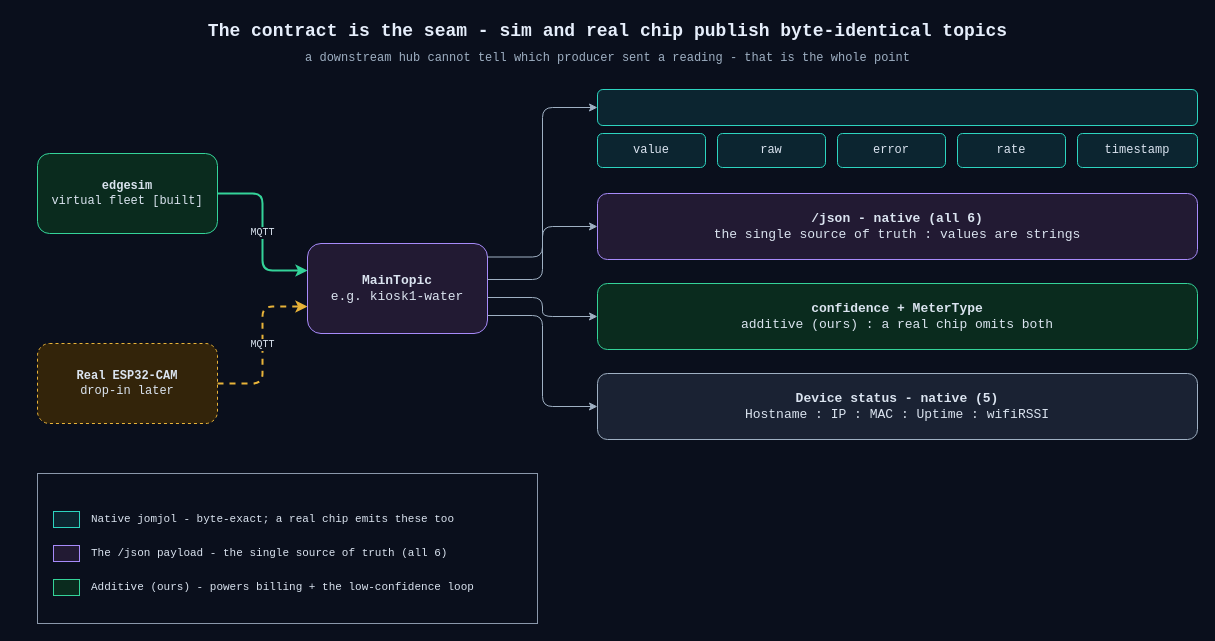
Some shapes in this 1215 by 641 pixel diagram are drawn without their labels. The box of each missing label's shape, as (x1, y1, x2, y2) in pixels:
Flat fields - native (5): (596, 88, 1198, 126)
Legend: (36, 472, 538, 624)
